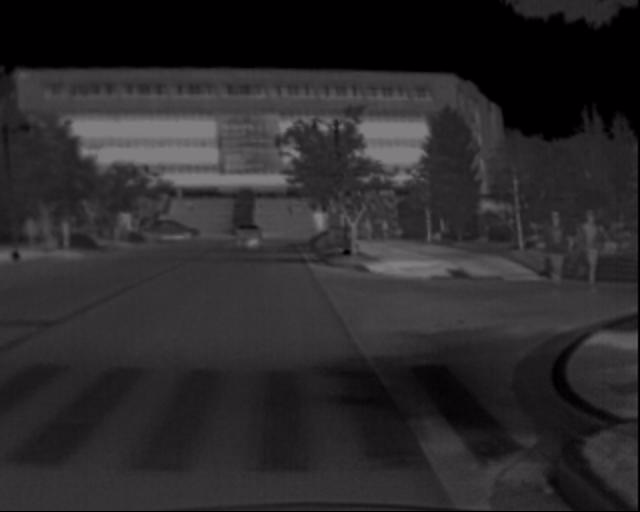person: (578, 207, 618, 297), (542, 208, 577, 297)
